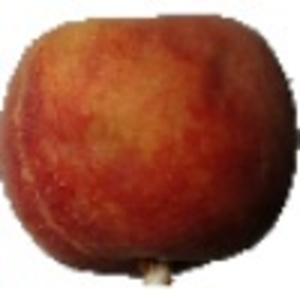pêssego: (1, 11, 300, 290)
